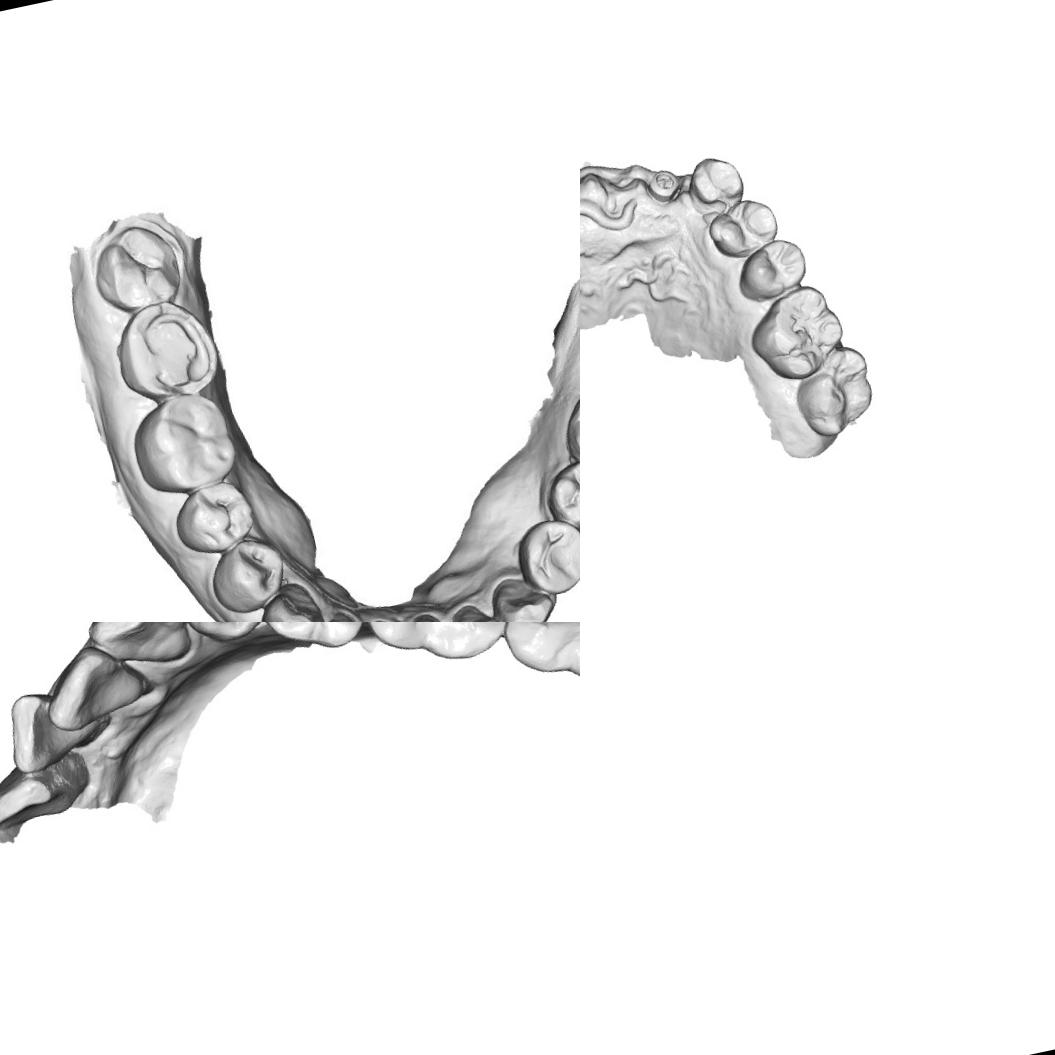canine: (76, 622, 196, 680), (681, 150, 748, 214), (490, 572, 558, 622), (252, 580, 329, 622)
implant: (641, 165, 686, 208)
incisor: (34, 634, 158, 737), (0, 677, 115, 778), (0, 748, 99, 837), (445, 596, 515, 622), (318, 605, 377, 622), (402, 606, 464, 622)
molar: (130, 386, 242, 500), (740, 278, 853, 389), (112, 295, 222, 402), (343, 622, 528, 679), (88, 219, 192, 320), (784, 340, 882, 444), (481, 622, 580, 700)
premolar: (167, 471, 257, 561), (205, 530, 289, 616), (730, 233, 813, 308), (702, 193, 786, 266), (517, 513, 580, 604), (244, 622, 380, 662), (162, 622, 276, 654), (541, 454, 580, 536)
